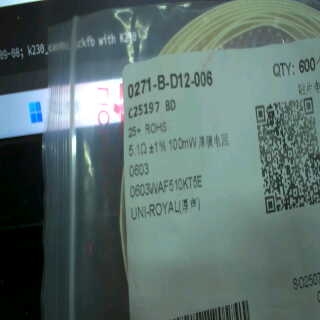5.1R: (126, 140, 148, 157)
